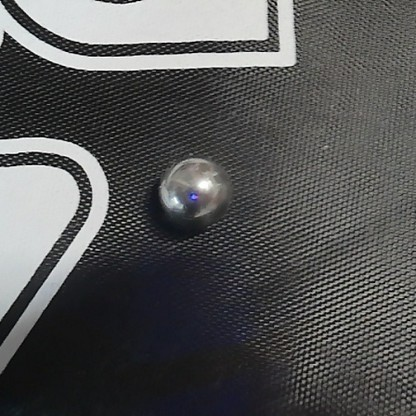ironball: (159, 157, 228, 225)
